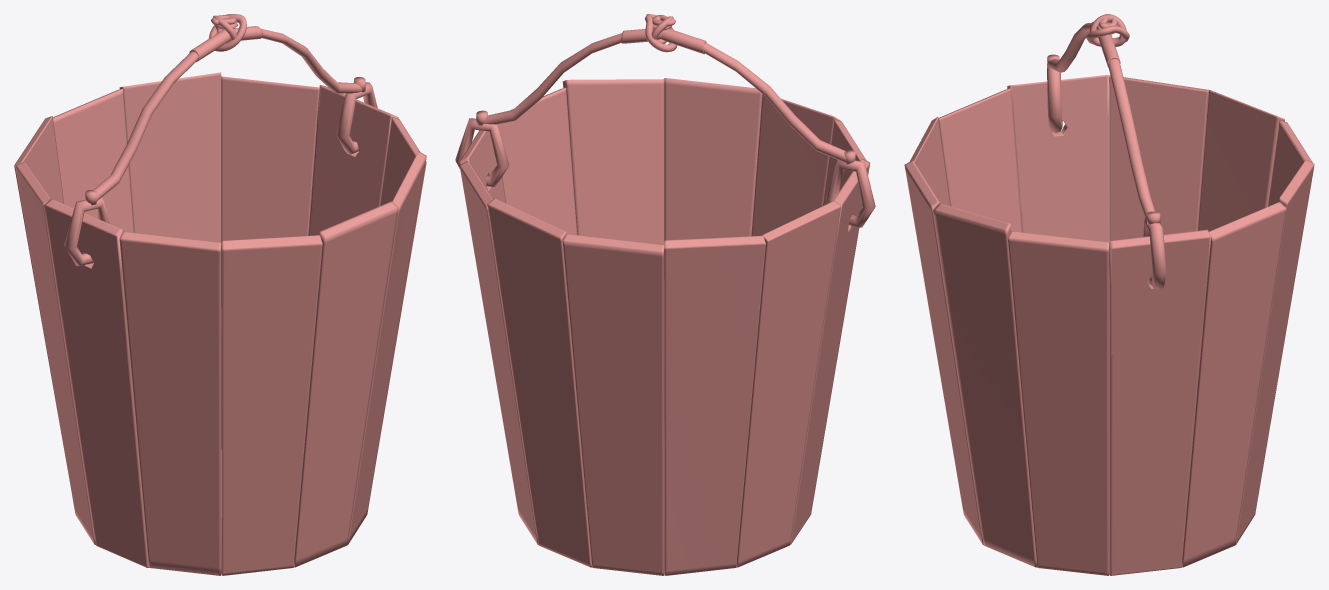
The model's file is Well_Bucket.fbx.
The picture shows the model from 3 angles, left to right: view 1: azimuth 30°, elevation 25°; view 2: azimuth 150°, elevation 25°; view 3: azimuth 270°, elevation 25°; orthographic projection.
Parts seen in each view (by area): view 1: Bucket; view 2: Bucket; view 3: Bucket.
Boxes of the visible parts, box(x1,y1,x2,y2) form: Bucket: box(14, 14, 426, 575); Bucket: box(455, 14, 875, 575); Bucket: box(904, 14, 1314, 575).
Bounding box in the file's own units: 29.04 × 37.8 × 28.12.
